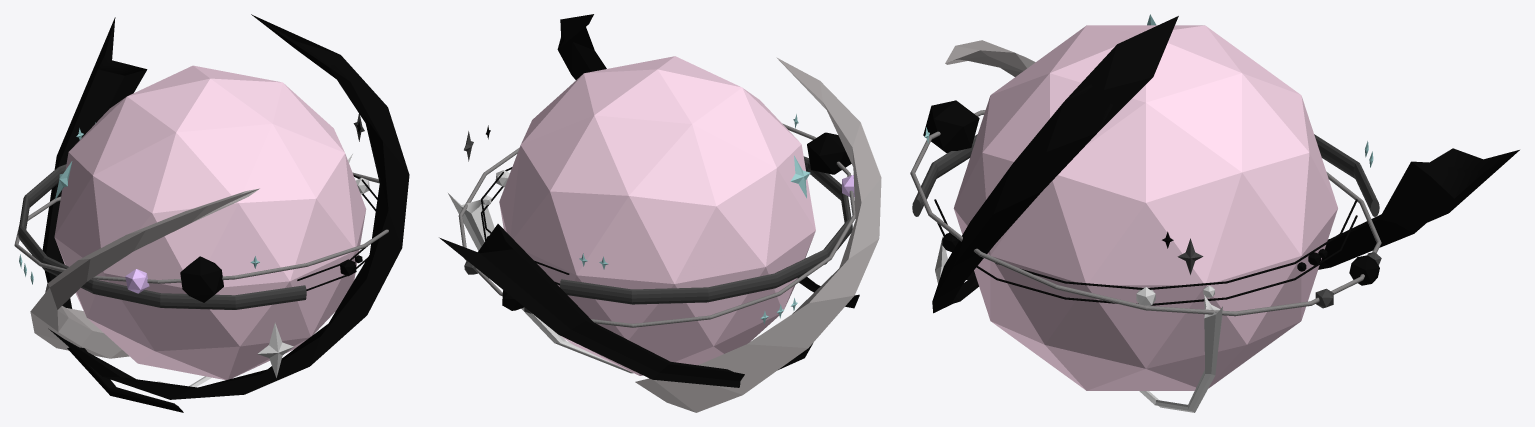
Rendered from water block_st2 (1).fbx.
The picture shows the model from 3 angles, left to right: view 1: azimuth 30°, elevation 25°; view 2: azimuth 150°, elevation 25°; view 3: azimuth 270°, elevation 25°; orthographic projection. The views are drawn at different scales.
Visible parts, largest first — view 1: Icosphere, Circle_013, Circle_014, Circle_015, Circle_003, star_ring1, Icosphere_009, Circle_016, Icosphere_008, Circle_002; view 2: Icosphere, Circle_014, Circle_015, Circle_003, star_ring1, Circle_013, Circle_001, Icosphere_009, Circle_002; view 3: Icosphere, Circle_013, Circle_015, star_ring1, Circle_003, Circle_002, Icosphere_009, Circle_001, Circle_014, Icosphere_010.
Part boxes in pixels (x1,y1,x2,y2): Icosphere: [54, 65, 366, 379]; Circle_013: [48, 14, 409, 399]; Circle_014: [30, 188, 259, 358]; Circle_015: [42, 17, 183, 412]; Circle_003: [18, 164, 306, 309]; star_ring1: [14, 172, 388, 283]; Icosphere_009: [180, 256, 223, 302]; Circle_016: [258, 322, 293, 377]; Icosphere_008: [125, 269, 149, 293]; Circle_002: [297, 174, 377, 291]; Icosphere: [499, 56, 815, 375]; Circle_014: [635, 57, 881, 412]; Circle_015: [439, 224, 812, 387]; Circle_003: [560, 156, 852, 304]; star_ring1: [458, 123, 855, 327]; Circle_013: [557, 14, 859, 308]; Circle_001: [448, 193, 633, 373]; Icosphere_009: [807, 132, 851, 174]; Circle_002: [480, 167, 569, 285]; Icosphere: [953, 25, 1337, 390]; Circle_013: [932, 16, 1178, 313]; Circle_015: [966, 148, 1519, 280]; star_ring1: [910, 110, 1381, 316]; Circle_003: [912, 134, 1379, 216]; Circle_002: [934, 199, 1357, 305]; Icosphere_009: [923, 100, 979, 153]; Circle_001: [1139, 295, 1222, 412]; Circle_014: [945, 40, 1035, 76]; Icosphere_010: [1349, 255, 1379, 285].
Bounding box in the file's own units: 264 × 236 × 318.
